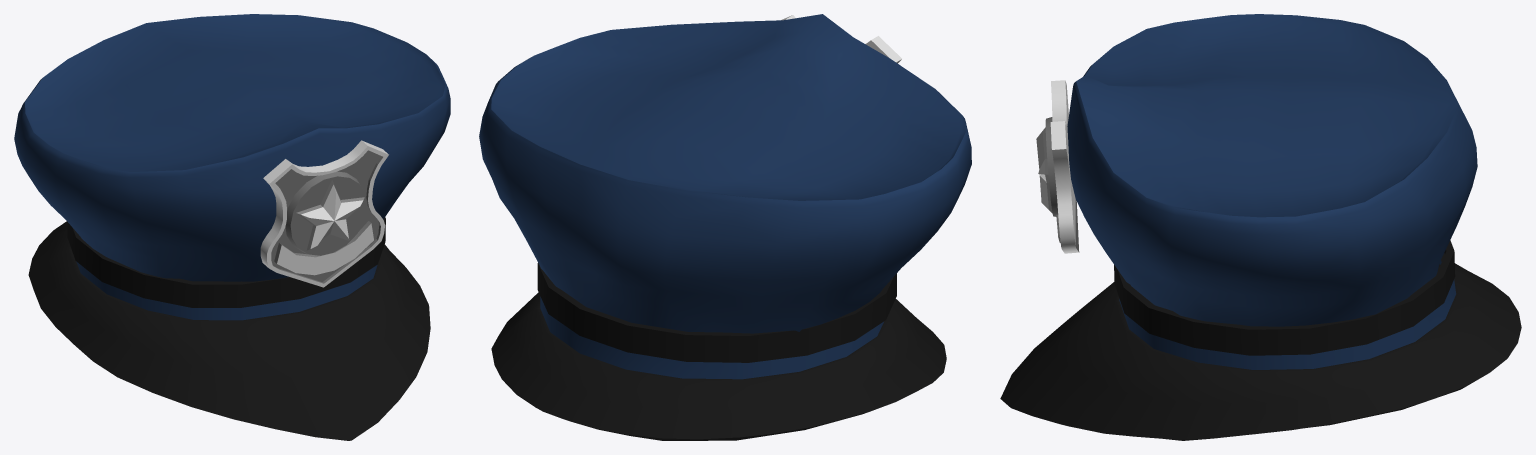
The model's file is PoliceCap.fbx.
3 renders of one model, left to right at view 1: azimuth 30°, elevation 25°; view 2: azimuth 150°, elevation 25°; view 3: azimuth 270°, elevation 25°, orthographic. The views are drawn at different scales.
Parts seen in each view (by area): view 1: PoliceCap; view 2: PoliceCap; view 3: PoliceCap.
Boxes of the visible parts, x1,y1,x2,y2 form: PoliceCap: [14, 14, 450, 440]; PoliceCap: [479, 14, 971, 440]; PoliceCap: [1000, 14, 1521, 440].
Bounding box in the file's own units: 50.65 × 36.1 × 53.1.
